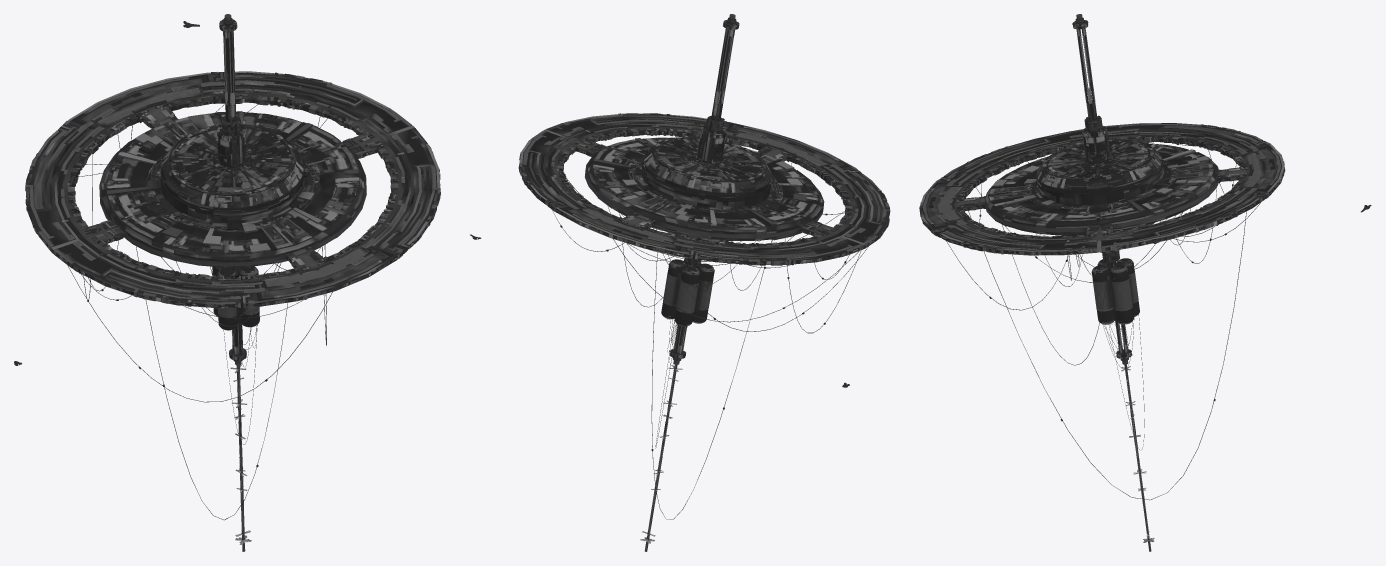
The picture shows the model from 3 angles, left to right: view 1: azimuth 30°, elevation 25°; view 2: azimuth 150°, elevation 25°; view 3: azimuth 270°, elevation 25°; orthographic projection. The views are drawn at different scales.
Visible parts, largest first — view 1: spacestation.016_low_Main_0, spacestation.023_low_Main_0, spacestation.031_low_Main_0, spacestation.002_low_Main_0, spacestation.010_low_Main_0, spacestation.015_low_Main_0, spacestation.003_low_Main_0, spacestation.022_low_Main_0, spacestation.008_low_Main_0, spacestation_low_Main_0, spacestation.004_low_Main_0, spacestation.012_low_Main_0 (+12 smaller); view 2: spacestation.016_low_Main_0, spacestation.023_low_Main_0, spacestation.031_low_Main_0, spacestation.002_low_Main_0, spacestation.015_low_Main_0, spacestation.020_low_Main_0, spacestation.010_low_Main_0, spacestation.019_low_Main_0, spacestation_low_Main_0, spacestation.017_low_Main_0, spacestation.022_low_Main_0, spacestation.003_low_Main_0 (+11 smaller); view 3: spacestation.016_low_Main_0, spacestation.023_low_Main_0, spacestation.002_low_Main_0, spacestation.031_low_Main_0, spacestation.015_low_Main_0, spacestation.020_low_Main_0, spacestation_low_Main_0, spacestation.010_low_Main_0, spacestation.017_low_Main_0, spacestation.003_low_Main_0, spacestation.019_low_Main_0, spacestation.022_low_Main_0 (+12 smaller).
Part boxes in pixels (box(x1,y1,x2,y2)): spacestation.016_low_Main_0: box(25, 71, 440, 308); spacestation.023_low_Main_0: box(25, 71, 440, 307); spacestation.031_low_Main_0: box(28, 73, 437, 307); spacestation.002_low_Main_0: box(101, 111, 364, 268); spacestation.010_low_Main_0: box(112, 119, 352, 245); spacestation.015_low_Main_0: box(170, 127, 293, 195); spacestation.003_low_Main_0: box(106, 112, 358, 265); spacestation.022_low_Main_0: box(107, 123, 358, 252); spacestation.008_low_Main_0: box(107, 117, 357, 263); spacestation_low_Main_0: box(101, 148, 364, 266); spacestation.004_low_Main_0: box(106, 112, 358, 253); spacestation.012_low_Main_0: box(172, 127, 291, 193); spacestation.016_low_Main_0: box(519, 113, 889, 264); spacestation.023_low_Main_0: box(518, 113, 890, 265); spacestation.031_low_Main_0: box(522, 115, 887, 264); spacestation.002_low_Main_0: box(587, 136, 822, 241); spacestation.015_low_Main_0: box(654, 137, 764, 231); spacestation.020_low_Main_0: box(661, 259, 714, 326); spacestation.010_low_Main_0: box(599, 140, 812, 222); spacestation.019_low_Main_0: box(552, 162, 868, 519); spacestation_low_Main_0: box(587, 140, 822, 240); spacestation.017_low_Main_0: box(669, 19, 739, 359); spacestation.022_low_Main_0: box(593, 138, 805, 226); spacestation.003_low_Main_0: box(593, 138, 818, 240); spacestation.016_low_Main_0: box(919, 123, 1285, 255); spacestation.023_low_Main_0: box(920, 123, 1284, 254); spacestation.002_low_Main_0: box(985, 139, 1218, 235); spacestation.031_low_Main_0: box(924, 125, 1284, 254); spacestation.015_low_Main_0: box(1042, 139, 1154, 179); spacestation.020_low_Main_0: box(1091, 258, 1139, 324); spacestation_low_Main_0: box(988, 141, 1214, 233); spacestation.010_low_Main_0: box(988, 164, 1214, 219); spacestation.017_low_Main_0: box(1072, 20, 1132, 358); spacestation.003_low_Main_0: box(993, 143, 1208, 234); spacestation.019_low_Main_0: box(946, 142, 1260, 500); spacestation.022_low_Main_0: box(992, 141, 1209, 221).
Size of the model in its own units: 14.47 by 21.7 by 17.34.
Materials: 2 (1 with a texture image).
